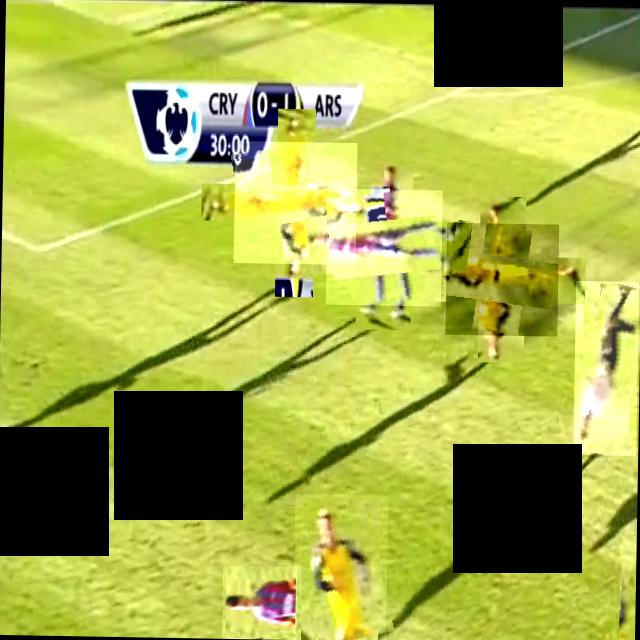referee: (572, 280, 638, 456)
soccer-player: (233, 140, 357, 264), (292, 493, 388, 640), (326, 188, 442, 306), (444, 222, 558, 336), (222, 566, 296, 640), (618, 535, 636, 640)
